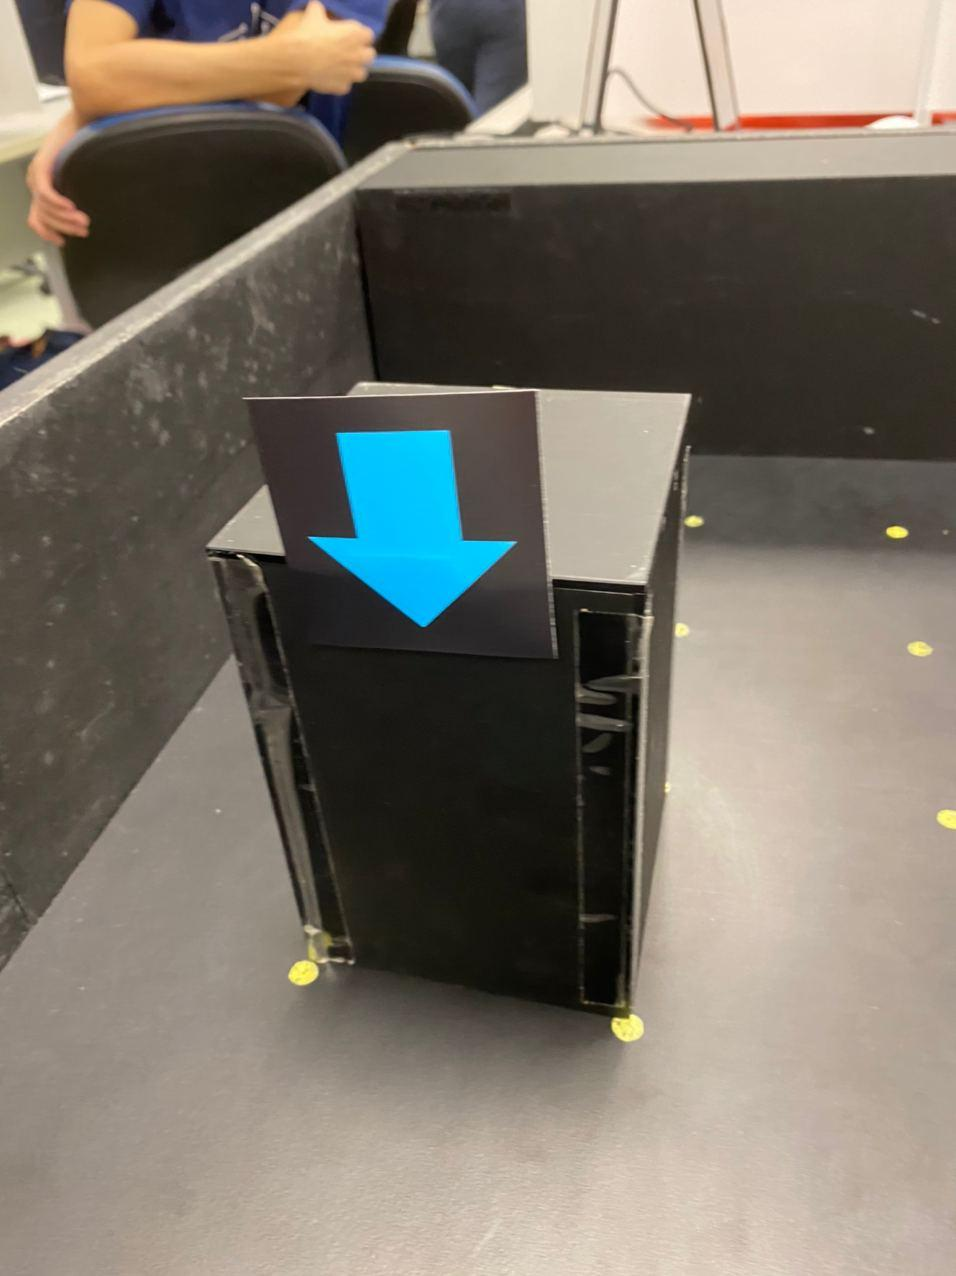down: (306, 431, 516, 630)
